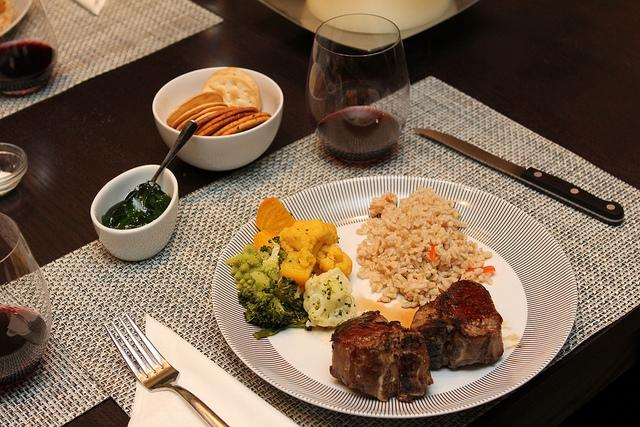cauliflower: (302, 266, 356, 328), (316, 243, 352, 276)
